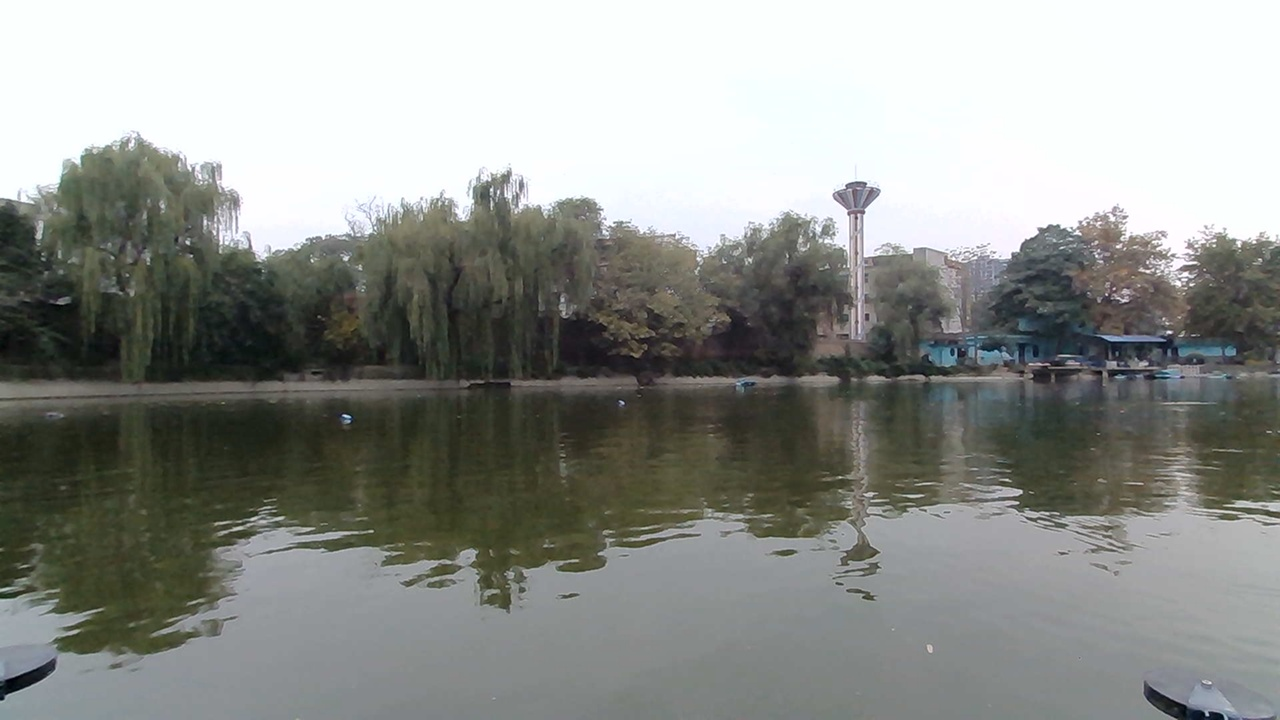bottle: (329, 409, 360, 427)
